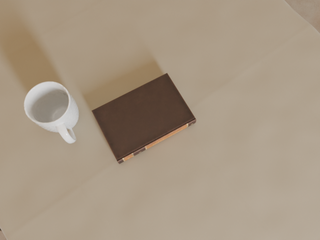book: (92, 73, 196, 164)
cup: (24, 82, 79, 143)
